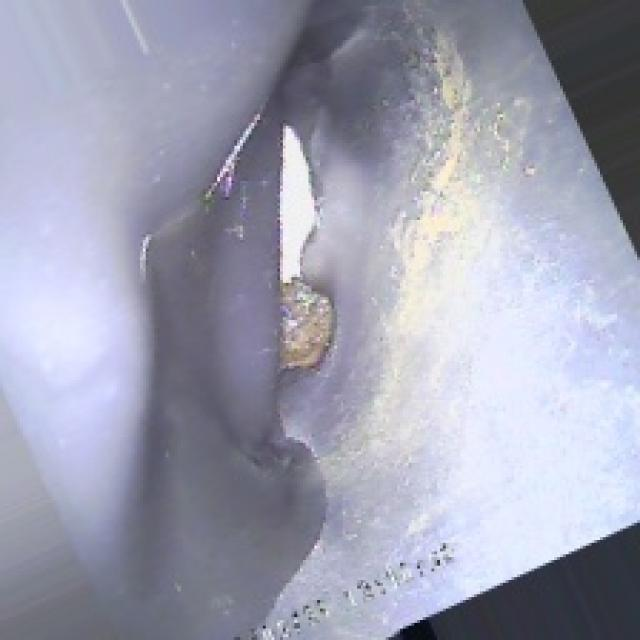shape_deformation: (60, 29, 534, 457)
